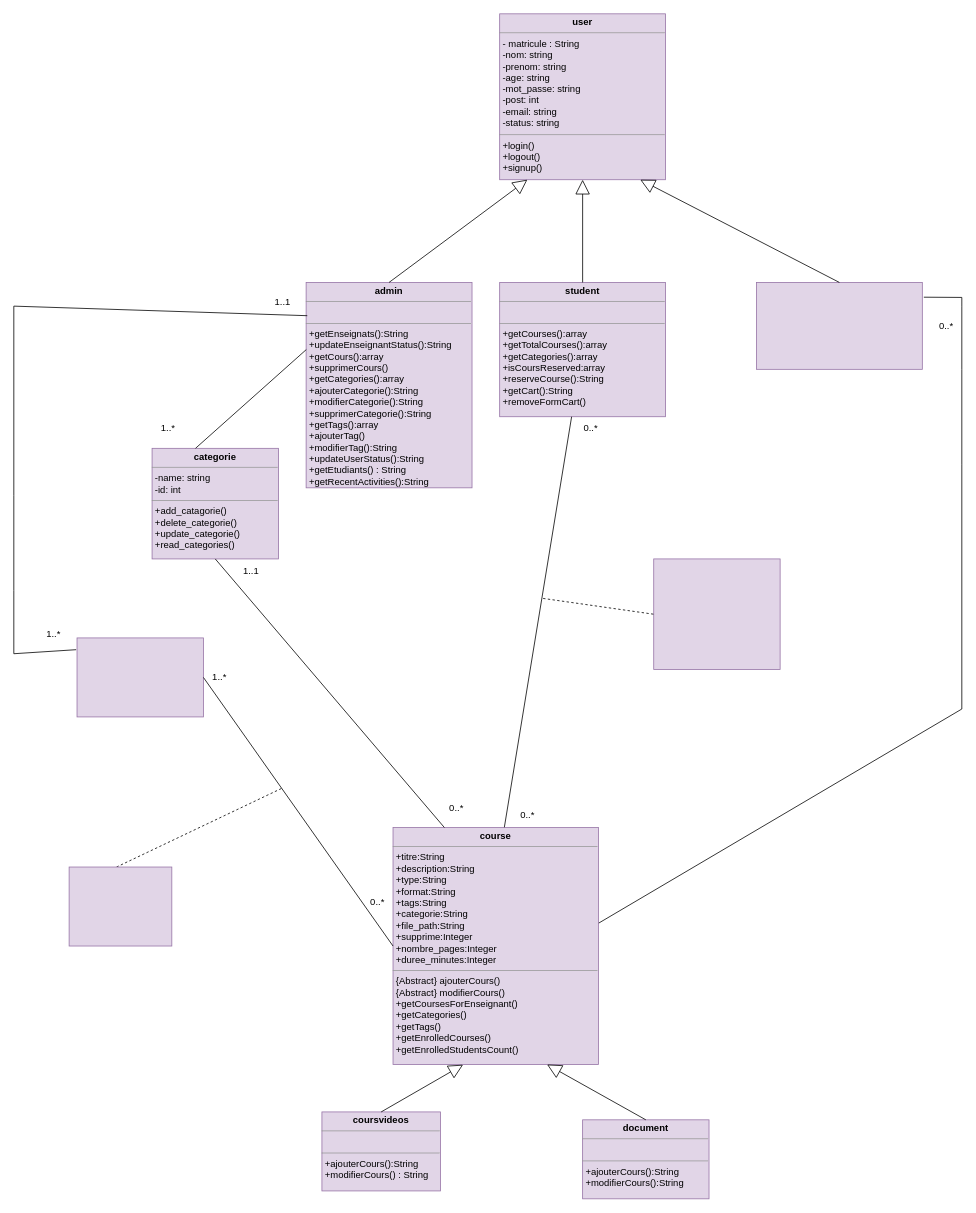
The diagram is 976 pixels wide and 1213 high, and some of its shapes have lost their labels. Each missing label, with the box of its shape:
enrollements: (653, 558, 780, 670)
enseignat +afficher_enseignat():String: (756, 282, 922, 369)
Tags -name: string -id: int +afficher_tags():String: (76, 637, 203, 717)
tags_courses: (68, 866, 172, 946)
